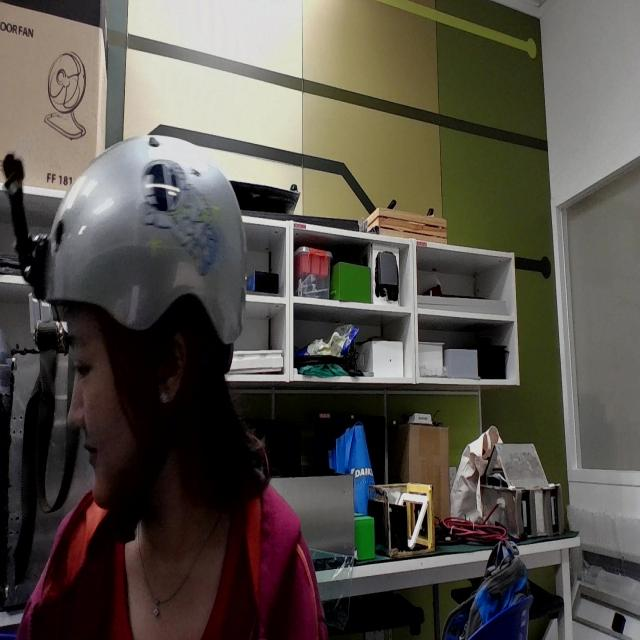With Helmet: (0, 108, 265, 542)
